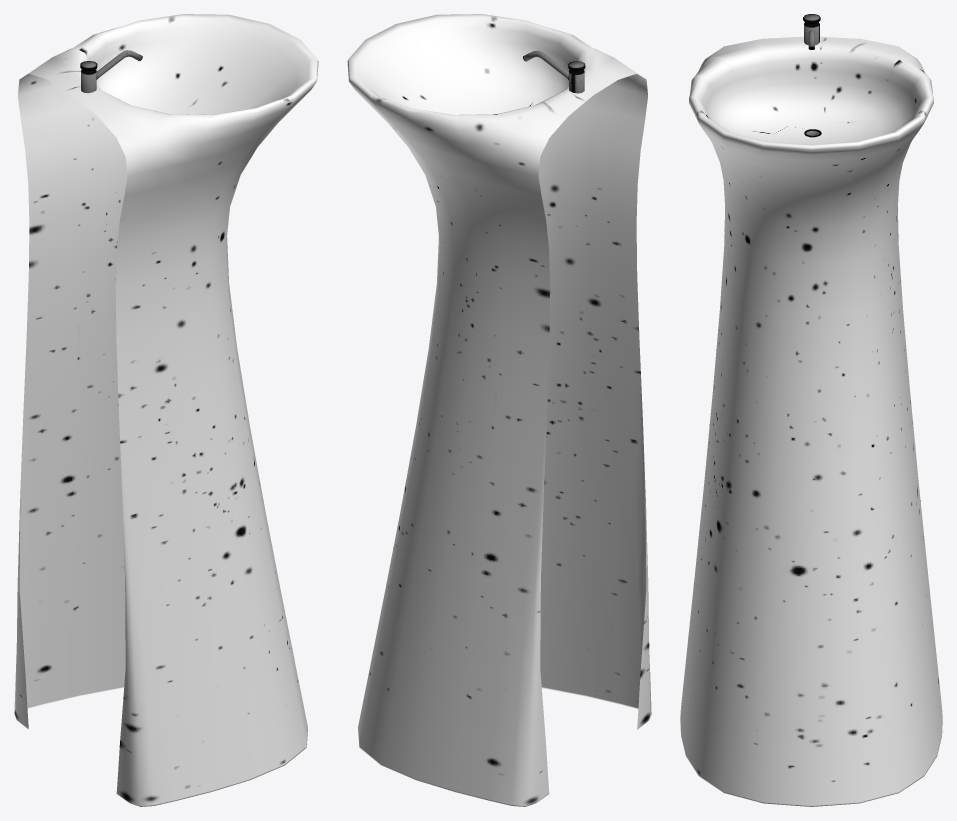
File: faucet.obj
The picture shows the model from 3 angles, left to right: view 1: azimuth 30°, elevation 25°; view 2: azimuth 150°, elevation 25°; view 3: azimuth 270°, elevation 25°; orthographic projection.
Visible parts, largest first — view 1: Cube; view 2: Cube; view 3: Cube.
Boxes of the visible parts, bbox=[...] form: Cube: bbox=[14, 14, 318, 806]; Cube: bbox=[347, 14, 651, 806]; Cube: bbox=[680, 14, 942, 806].
Size of the model in its own units: 1.11 by 3.23 by 1.1.
